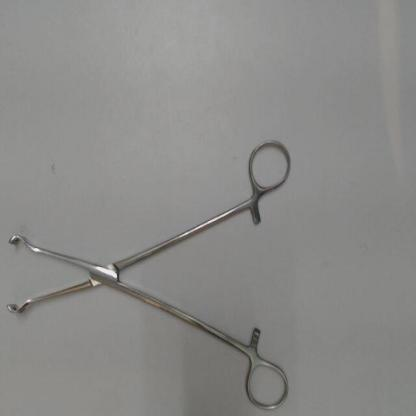8 Babcock Tissue Forceps: (0, 127, 302, 414)
